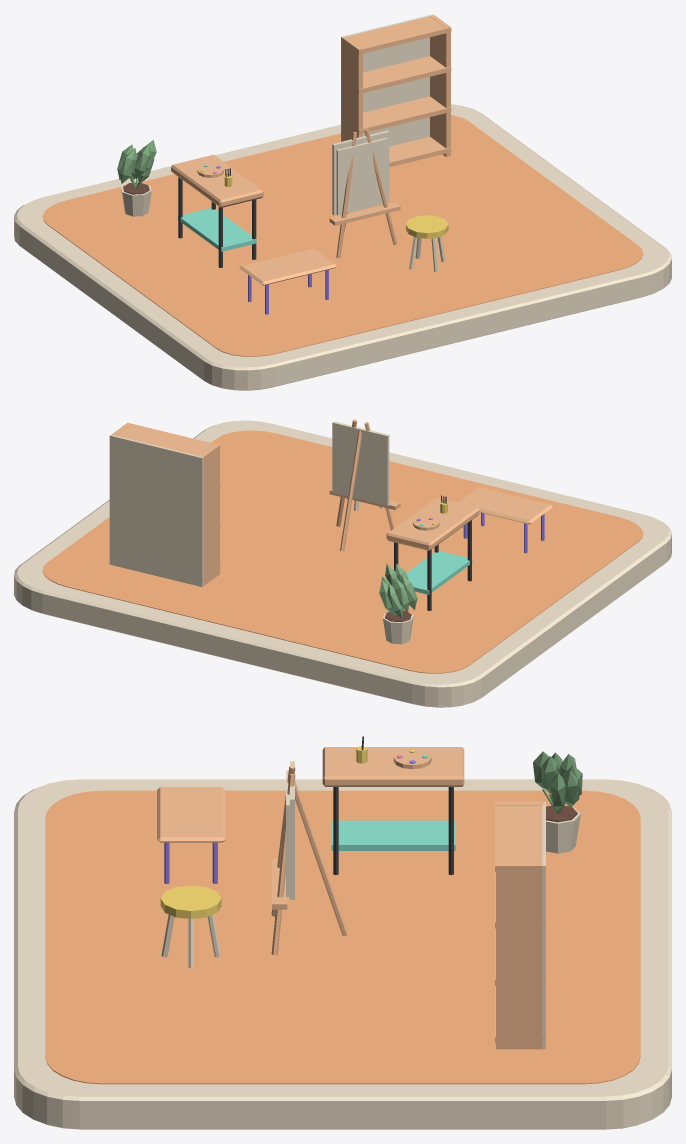
The model's file is room.fbx.
3 views of the same model, one above another, from view 1: azimuth 30°, elevation 25°; view 2: azimuth 150°, elevation 25°; view 3: azimuth 270°, elevation 25° (orthographic). The views are drawn at different scales.
Parts seen in each view (by area): view 1: COM-02 Floor Surface, COM-01 Rounded Base Direct, Back, Blank canvas, Worktop, Pot, Side.003, Rounded table top, Shelf.003, Side.002, Shelf.002, Shelf.001 (+5 smaller); view 2: COM-02 Floor Surface, COM-01 Rounded Base Direct, Back, Canvas, Worktop, Pot, Side.002, Rounded table top, Lower shelf, Shelf.003, Rear leg; view 3: COM-02 Floor Surface, COM-01 Rounded Base Direct, Side.003, Worktop, Rounded table top, Lower shelf, Pot, Shelf.003, Seat, Rear leg, Back, Side.001 (+2 smaller).
Part boxes in pixels (x1,y1,x2,y2): COM-02 Floor Surface: (42,115,643,356); COM-01 Rounded Base Direct: (14,104,671,390); Back: (341,14,433,146); Blank canvas: (336,137,387,215); Worktop: (171,154,263,207); Pot: (117,140,156,216); Side.003: (430,15,450,156); Rounded table top: (239,248,337,285); Shelf.003: (341,16,451,54); Side.002: (342,36,362,141); Shelf.002: (341,56,451,93); Shelf.001: (341,96,451,134); COM-02 Floor Surface: (42,430,643,673); COM-01 Rounded Base Direct: (14,420,671,707); Back: (109,435,203,586); Canvas: (332,421,389,506); Worktop: (386,497,479,550); Pot: (379,563,417,644); Side.002: (199,444,219,585); Rounded table top: (458,487,552,524); Lower shelf: (406,551,472,594); Shelf.003: (116,422,220,461); Rear leg: (340,430,361,551); COM-02 Floor Surface: (45,790,640,1084); COM-01 Rounded Base Direct: (14,779,671,1129); Side.003: (496,862,543,1049); Worktop: (322,747,464,786); Rounded table top: (157,787,225,842); Lower shelf: (331,820,455,850); Pot: (533,751,582,853); Shelf.003: (495,802,544,872); Seat: (160,885,221,918); Rear leg: (295,781,348,936); Back: (542,801,545,1049); Side.001: (271,774,295,955).
Size of the model in its own units: 600 by 190 by 520.
